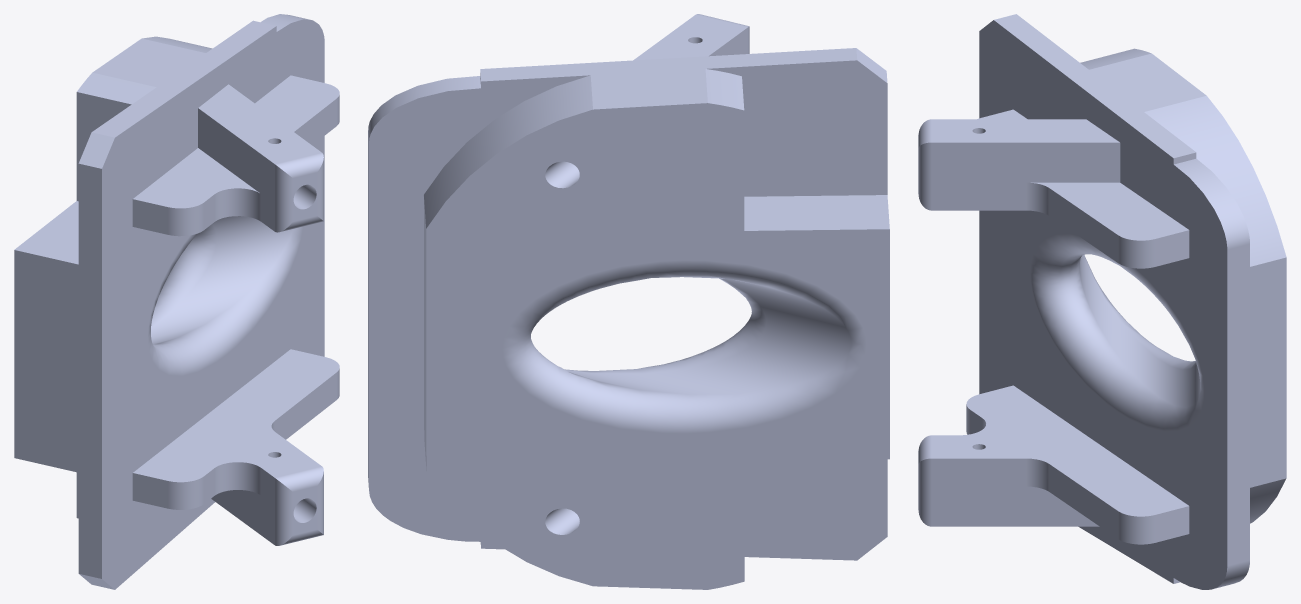
File: Union.glb
The picture shows the model from 3 angles, left to right: view 1: azimuth 30°, elevation 25°; view 2: azimuth 150°, elevation 25°; view 3: azimuth 270°, elevation 25°; orthographic projection. The views are drawn at different scales.
Visible parts, largest first — view 1: Union; view 2: Union; view 3: Union.
Boxes of the visible parts, x1=… form: Union: x1=14, y1=14, x2=339, y2=589; Union: x1=368, y1=14, x2=889, y2=589; Union: x1=918, y1=14, x2=1286, y2=589.
Size of the model in its own units: 0.0339 by 0.0375 by 0.0275.
